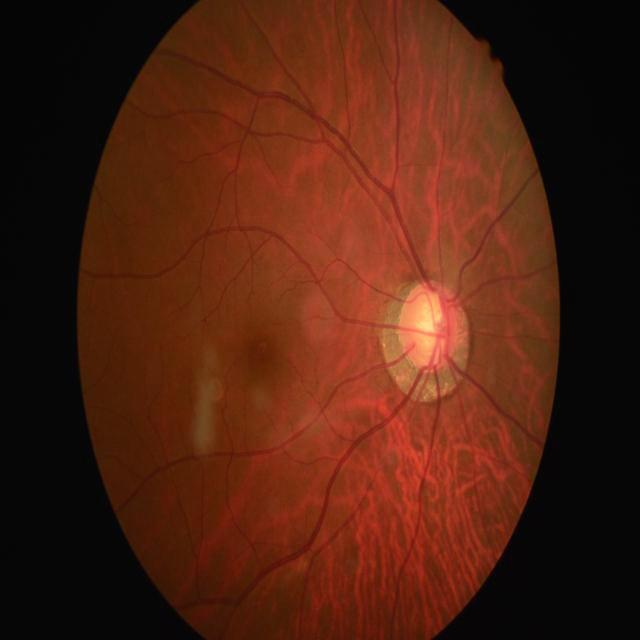cup: (416, 294, 448, 368)
disk: (400, 280, 458, 370)
